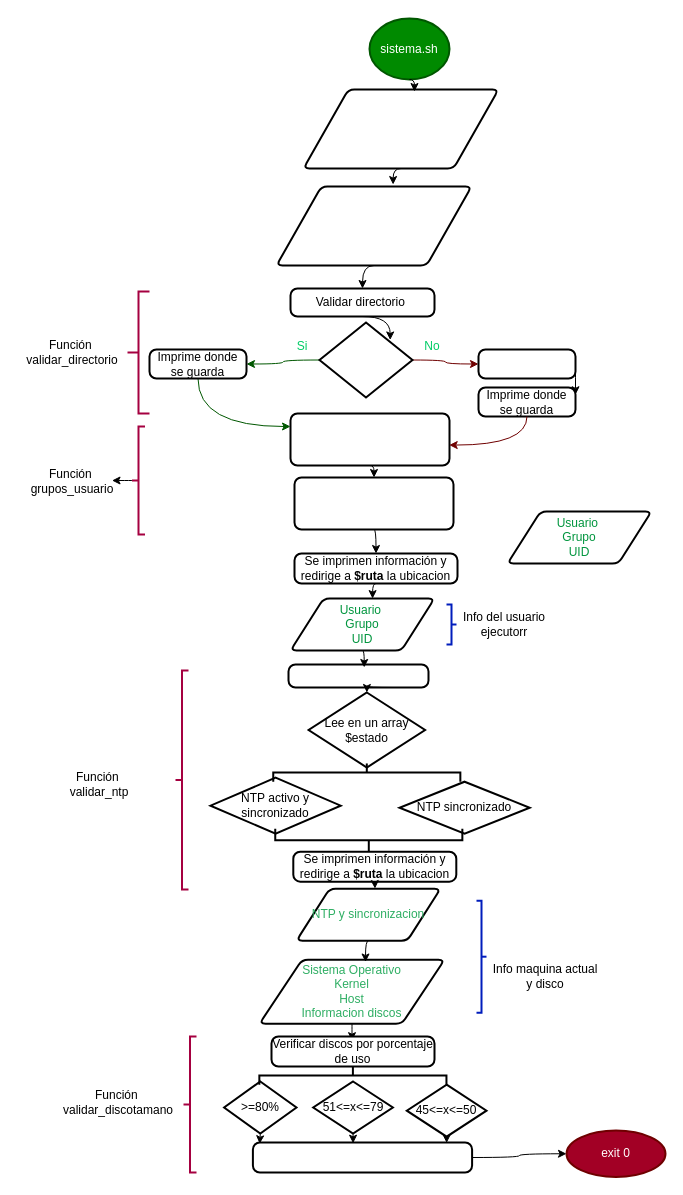
This 683x1195 diagram has some shape labels left out. The centre of each missing label's shape, as x and y in pixels:
"$ directorio_script $ proyecto $ ubicacion $ ruta" goes at point (373, 225).
"$ usuario_actual $ usuario_grupos (array) $ fecha $ dia $ salida" goes at point (400, 128).
"Añadir grupos al array (capturarlo del usuario ejecutor)" goes at point (369, 439).
"Captura con 'groups $usuario_actual' pero solo se obtiene a partir del campo 3" goes at point (373, 503).
"Crea la carpeta en la ruta" goes at point (526, 363).
"Existe? $ubicacion" goes at point (365, 359).
"Se imprime un mensaje [peligro - atencion] sobre el uso" goes at point (362, 1157).
"Se valida NTP" goes at point (358, 675).
